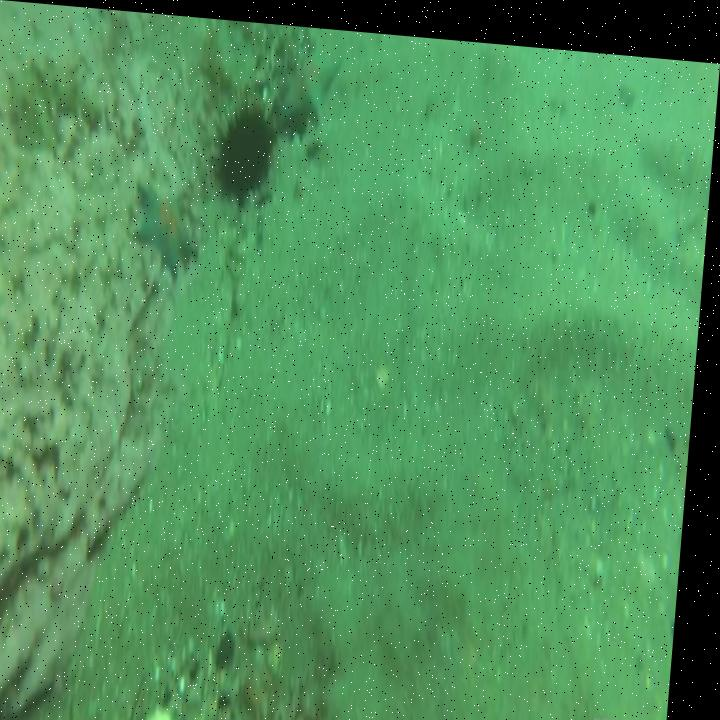echinus: (212, 92, 283, 207)
holothurian: (0, 50, 110, 155)
starfish: (128, 165, 208, 280), (273, 39, 344, 124)
